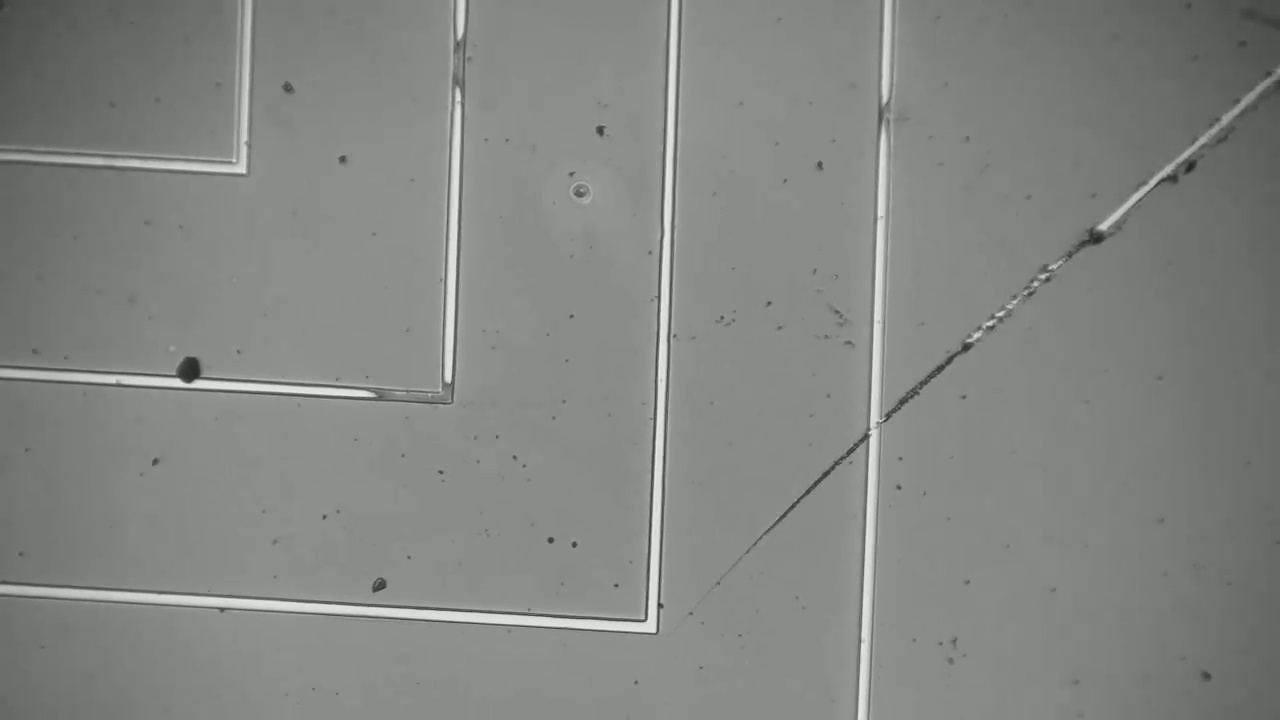gray_line: (356, 382, 470, 411), (437, 24, 472, 108), (867, 84, 907, 137), (435, 367, 465, 414)
scratch: (706, 80, 1275, 594)
stains_enbedded: (166, 344, 205, 402)
